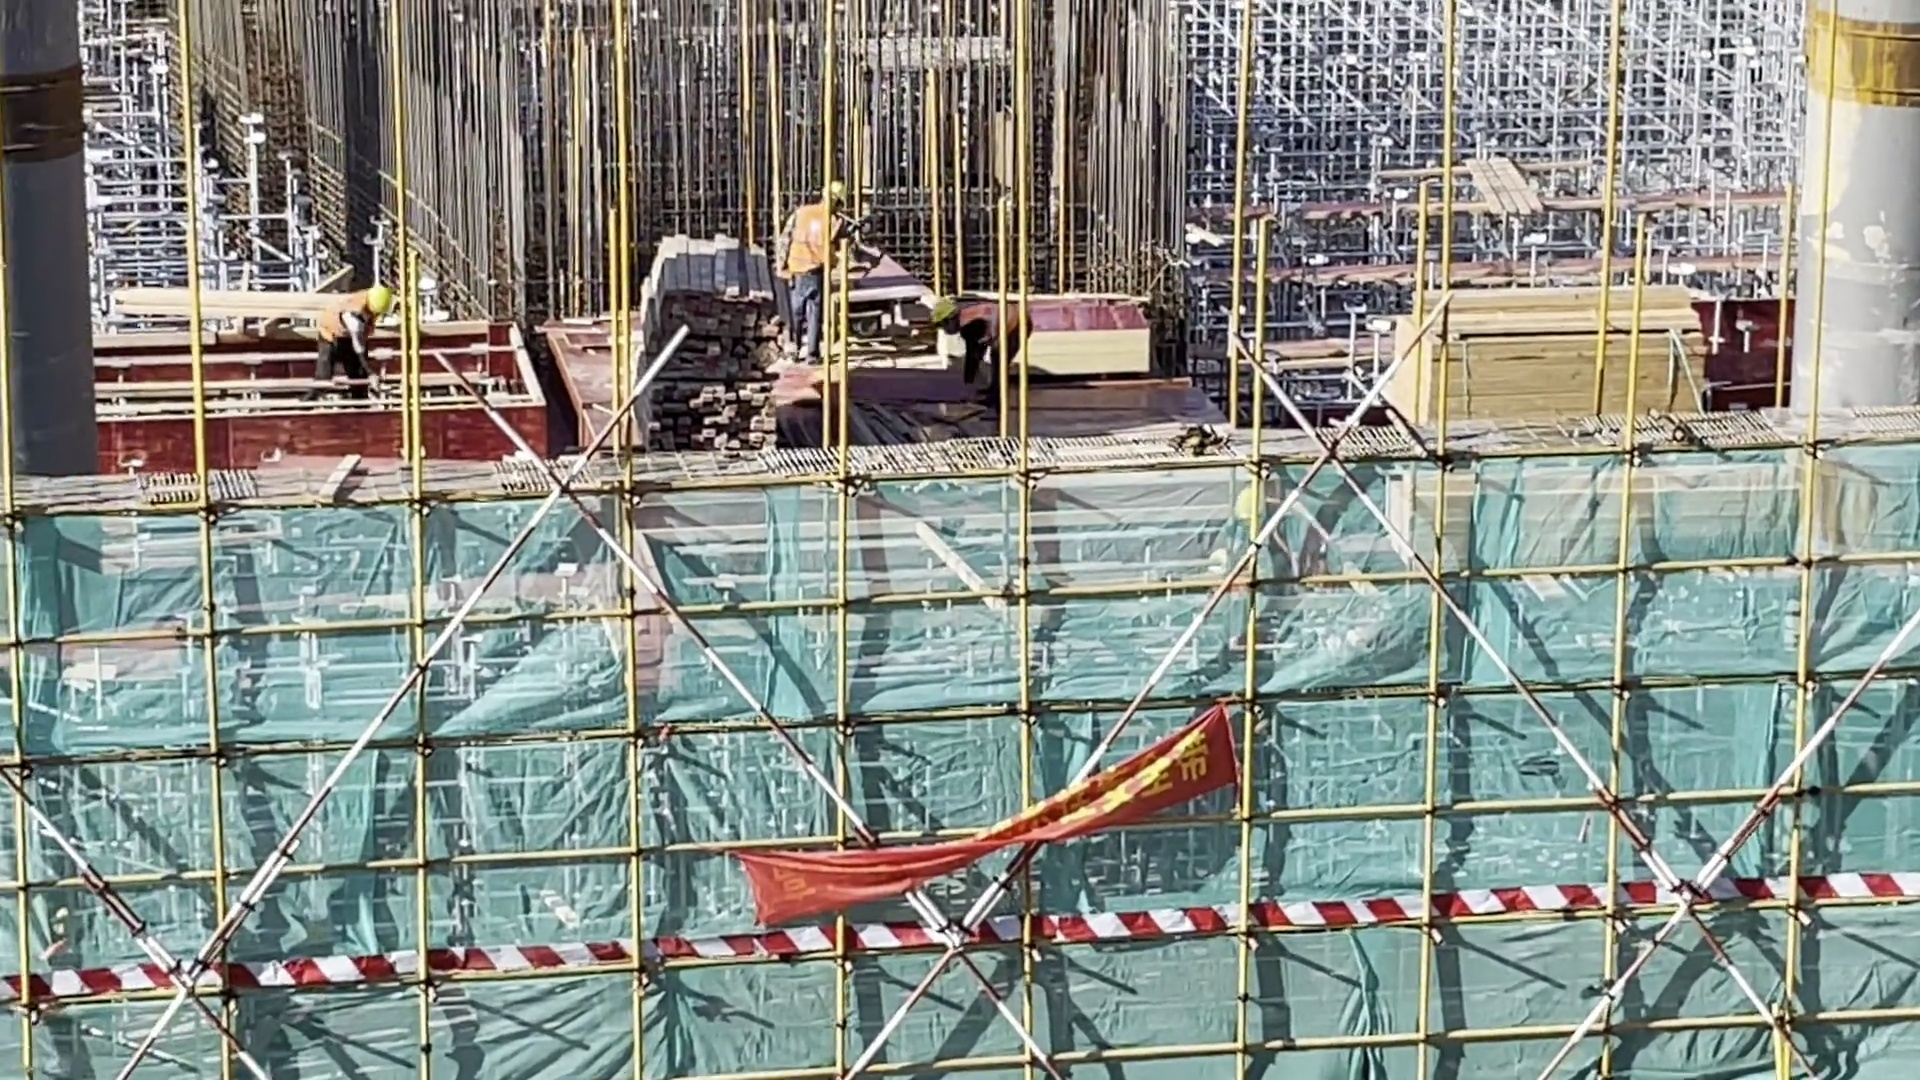board: (940, 305, 1152, 382)
helmet: (924, 299, 962, 324), (366, 282, 396, 310), (1231, 489, 1262, 515), (830, 178, 851, 207)
person: (767, 174, 845, 383), (925, 298, 1040, 412), (311, 292, 396, 416)
slogan: (792, 741, 1218, 909)
vest: (780, 206, 830, 271), (962, 305, 1024, 349), (319, 294, 377, 341)
wood: (1376, 467, 1784, 555), (1396, 305, 1689, 427), (659, 250, 772, 362), (661, 377, 768, 453)
